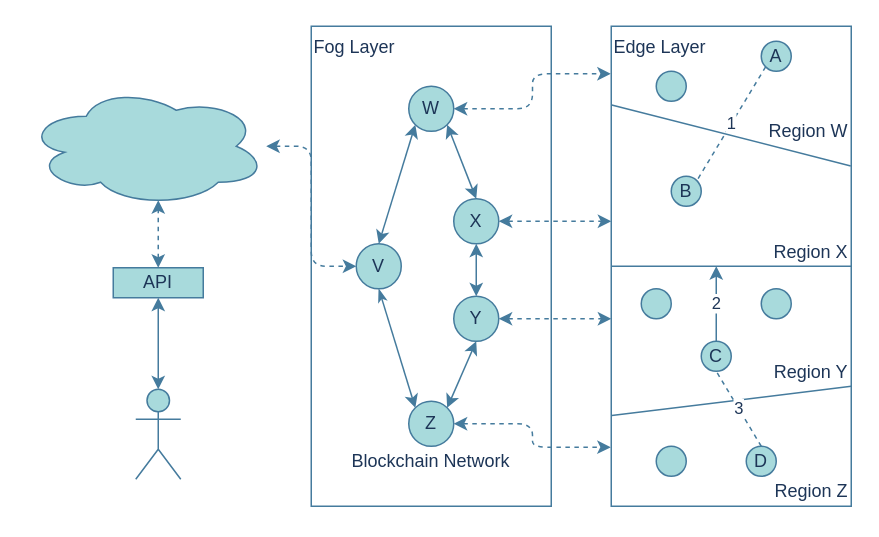
Some shapes in this 879 by 537 pixel diagram are drawn without their labels. The centre of each missing label's shape, as x and y in pixels:
Administrator: pixel 157 433
Cloud Layer: pixel 145 145
